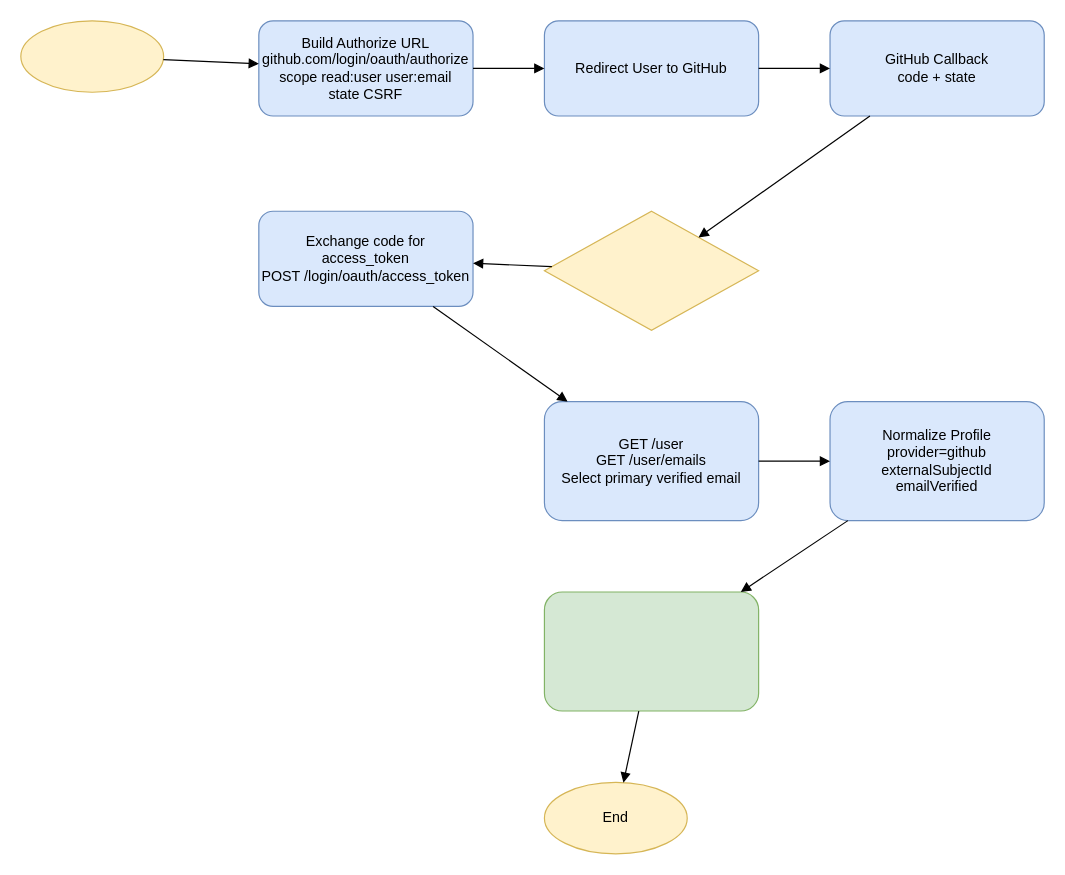
Image size: 1065x875. Some labels were removed from this diagram. Each missing label, with the centre of its shape:
JIT Provisioning JitProvisioningService.provision create/link user: the point at 651,651
Start: the point at 92,56
Verify state assertState (storedState): the point at 651,270
